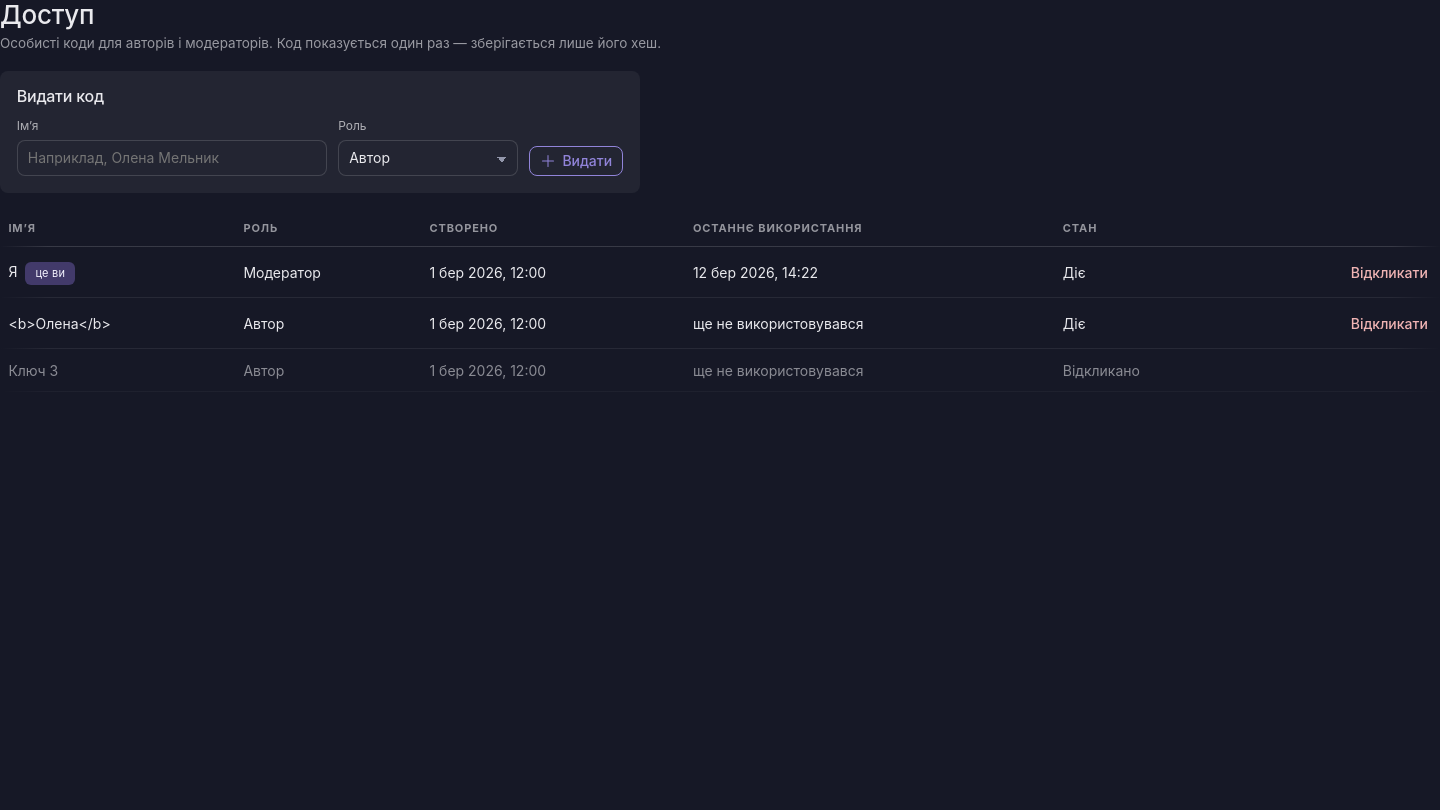
Test: AccessComponent › DW-7.4 once the dialog is closed the code is nowhere in the page and never comes back
Type "Ірина" into the field with id "key-label" at (172, 158), box [17, 140, 327, 176]
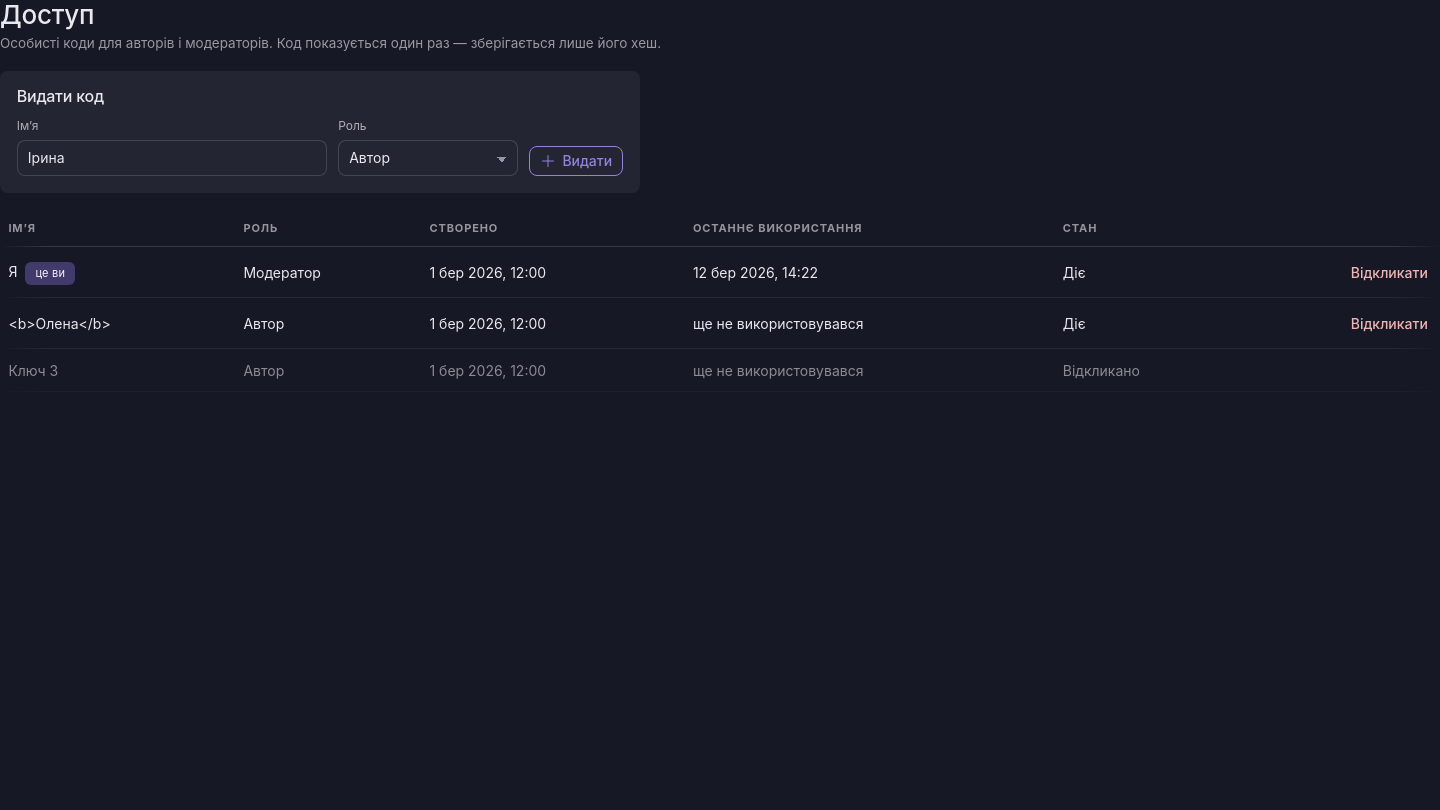
Select "Автор" in the dropdown with id "key-role" at (428, 158), box [338, 140, 518, 176]
Submit the form, box [17, 117, 623, 176]
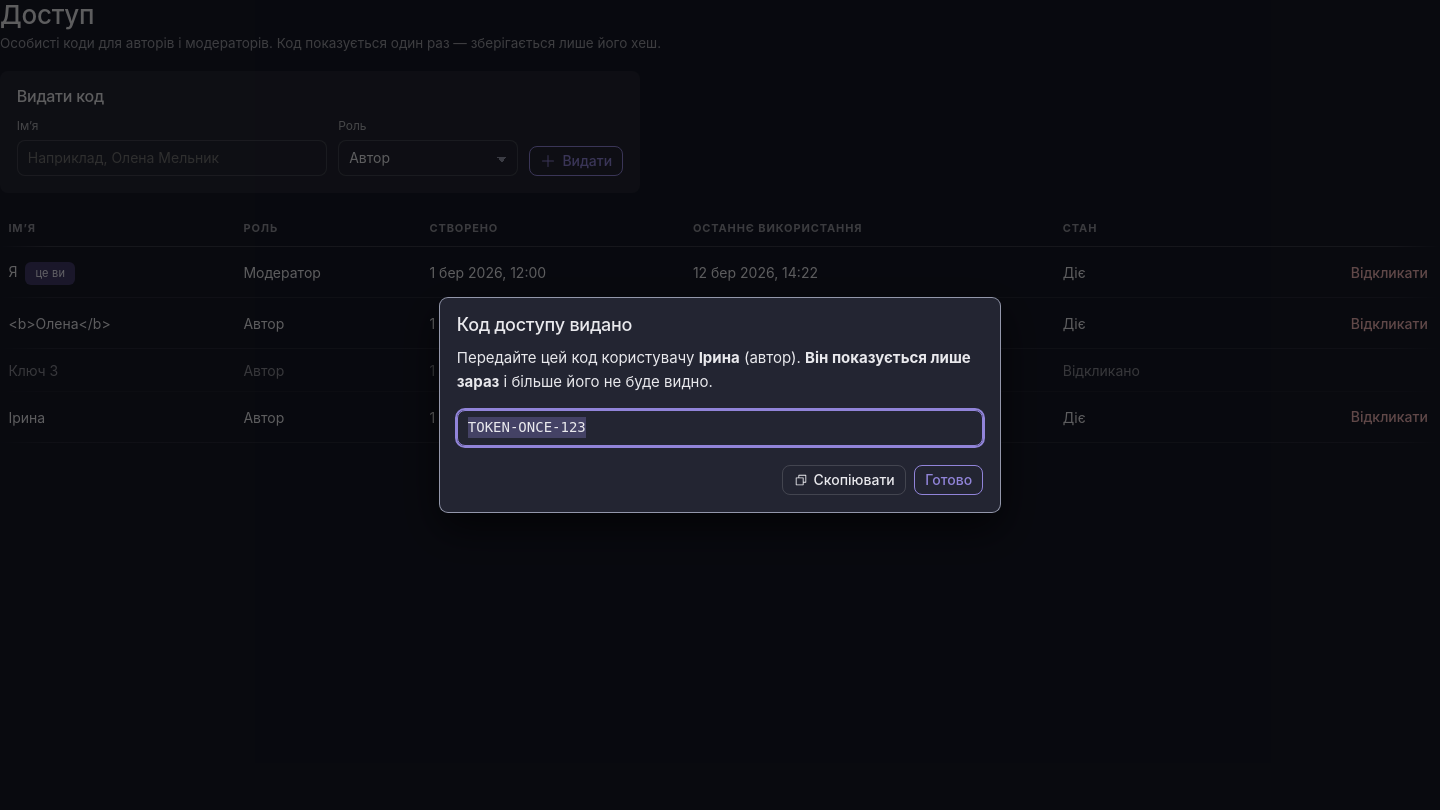
Click the button "Готово" at (949, 480), box [914, 465, 983, 495]
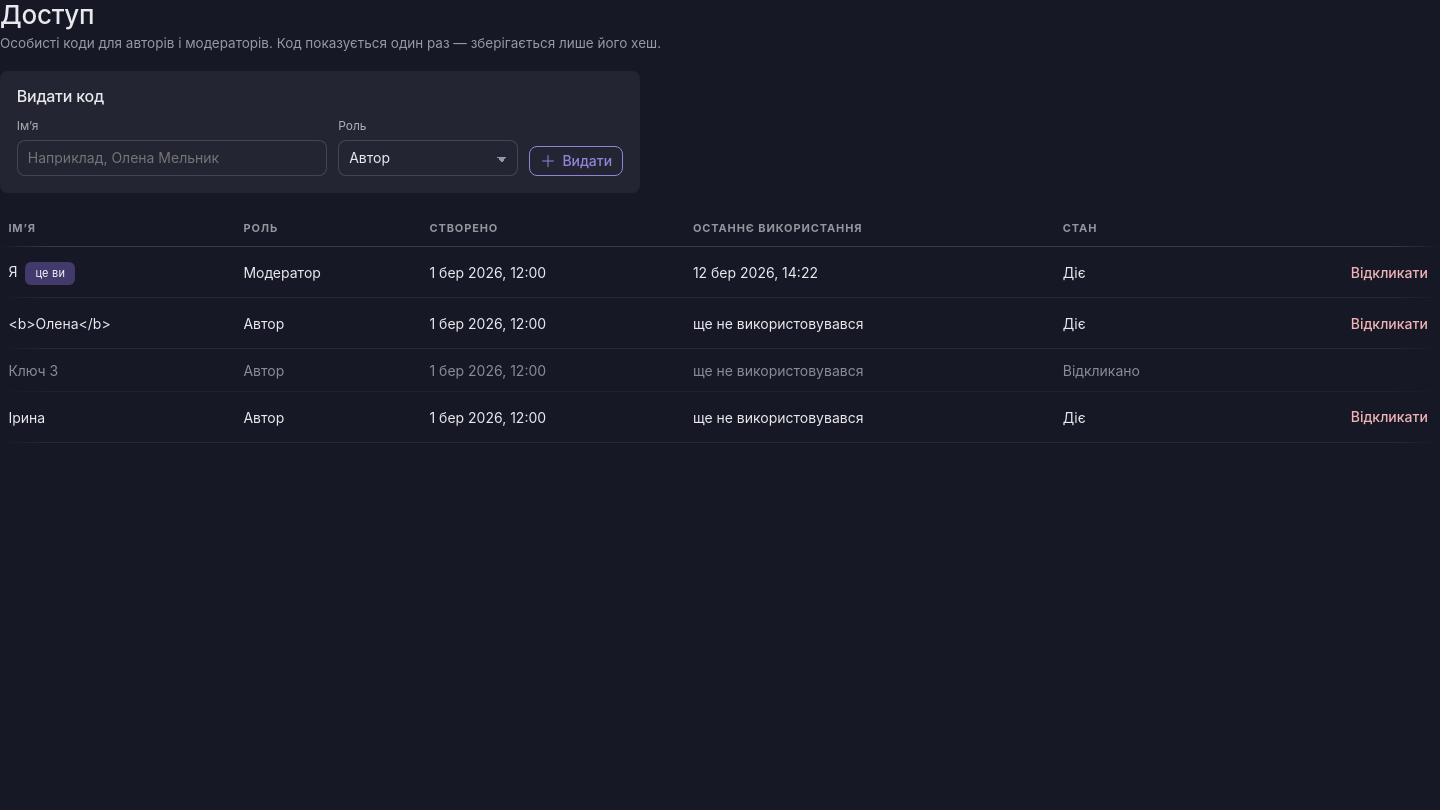
Expected: the text "TOKEN-ONCE-123" is not shown
Expected: the dialog is gone
Expected: the field is gone
